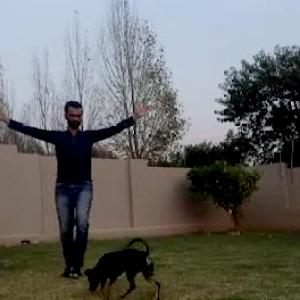takeoff: (1, 87, 155, 290)
